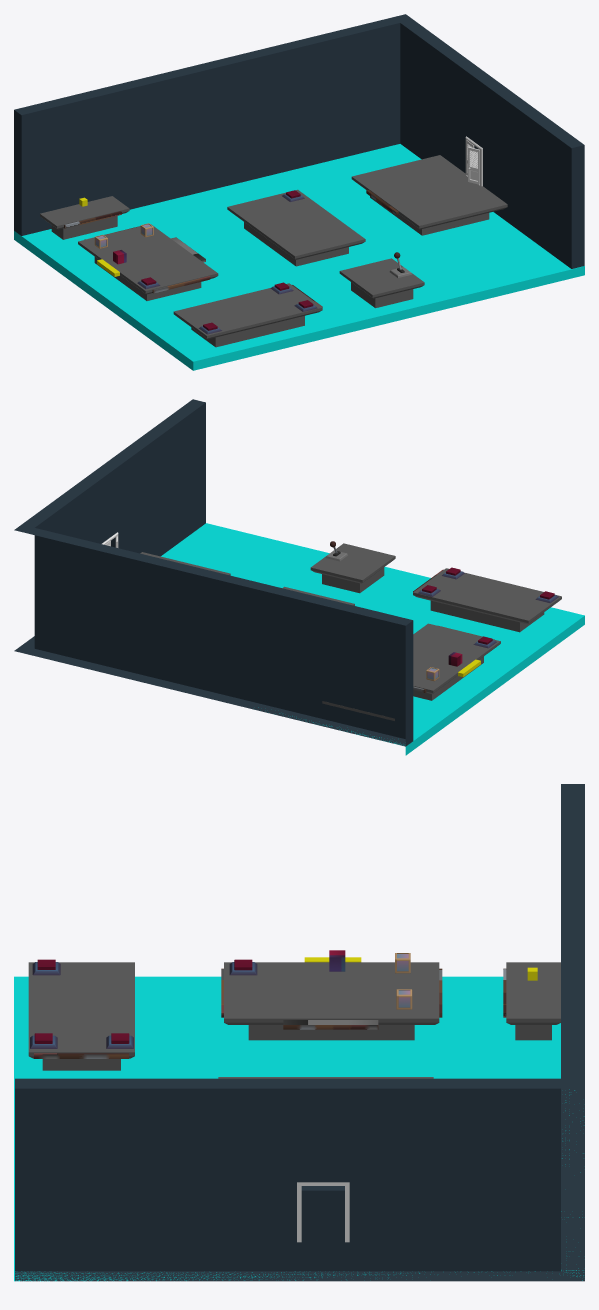
The model's file is Level[BoxConundrum]VOL.fbx.
3 views of the same model, one above another, from view 1: azimuth 30°, elevation 25°; view 2: azimuth 150°, elevation 25°; view 3: azimuth 270°, elevation 25° (orthographic). The views are drawn at different scales.
Parts seen in each view (by area): view 1: polySurface11, polySurface9, polySurface10, polySurface12, polySurface8, polySurface7, polySurface5, polySurface6, polySurface4, pSphere6; view 2: polySurface11, polySurface9, polySurface10, polySurface5, polySurface7, polySurface6; view 3: polySurface10, polySurface9, polySurface7, polySurface11, polySurface5, polySurface4, pCube11, pSphere6.
Boxes of the visible parts, x1,y1,x2,y2 form: polySurface11: (14, 14, 405, 235); polySurface9: (14, 144, 584, 370); polySurface10: (400, 14, 584, 268); polySurface12: (351, 155, 507, 235); polySurface8: (227, 189, 365, 266); polySurface7: (78, 224, 218, 300); polySurface5: (173, 283, 322, 347); polySurface6: (339, 258, 424, 308); polySurface4: (40, 196, 129, 239); pSphere6: (465, 136, 482, 186); polySurface11: (14, 528, 413, 746); polySurface9: (161, 523, 584, 755); polySurface10: (14, 399, 205, 650); polySurface5: (413, 568, 561, 632); polySurface7: (413, 623, 500, 700); polySurface6: (310, 543, 395, 593); polySurface10: (15, 1078, 583, 1281); polySurface9: (14, 976, 584, 1281); polySurface7: (224, 962, 439, 1040); polySurface11: (561, 784, 584, 1281); polySurface5: (28, 962, 134, 1070); polySurface4: (506, 962, 560, 1040); pCube11: (283, 1020, 378, 1029); pSphere6: (297, 1182, 349, 1242).
Bounding box in the file's own units: 45.55 × 14.44 × 36.07.
